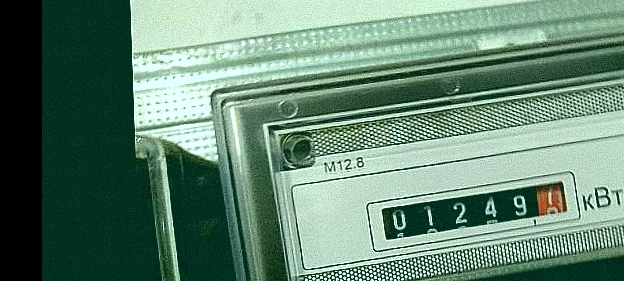0: (388, 204, 408, 231)
1: (420, 202, 436, 227)
2: (450, 199, 471, 225)
4: (482, 192, 501, 219)
7: (541, 182, 557, 206)
9: (511, 191, 530, 216)
screen: (359, 173, 595, 255)
